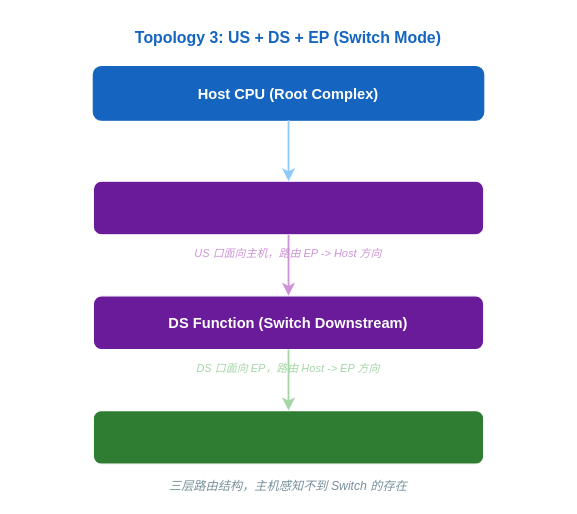
Some shapes in this 577 by 514 pixel diagram are drawn without their labels. Each missing label, with the centre of its shape:
"EP Functions (PF0, PF1, VF...)" goes at point 288,436.
"US Function (Switch Upstream)" goes at point 288,207.
